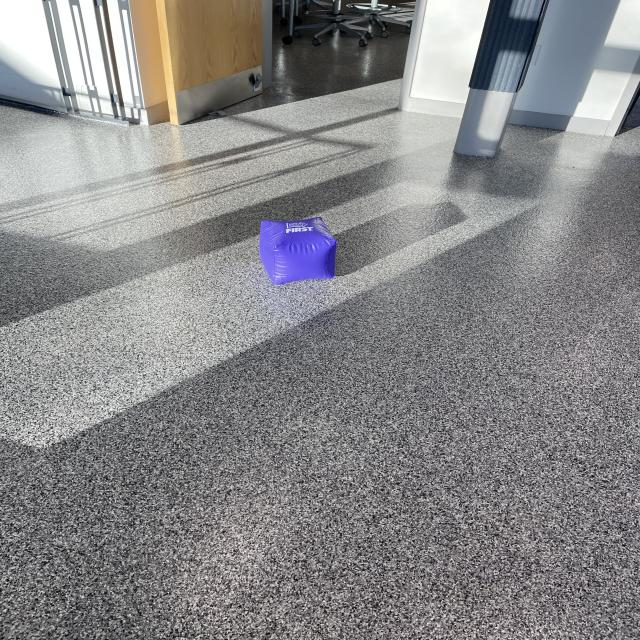frc_cube: (256, 214, 345, 286)
